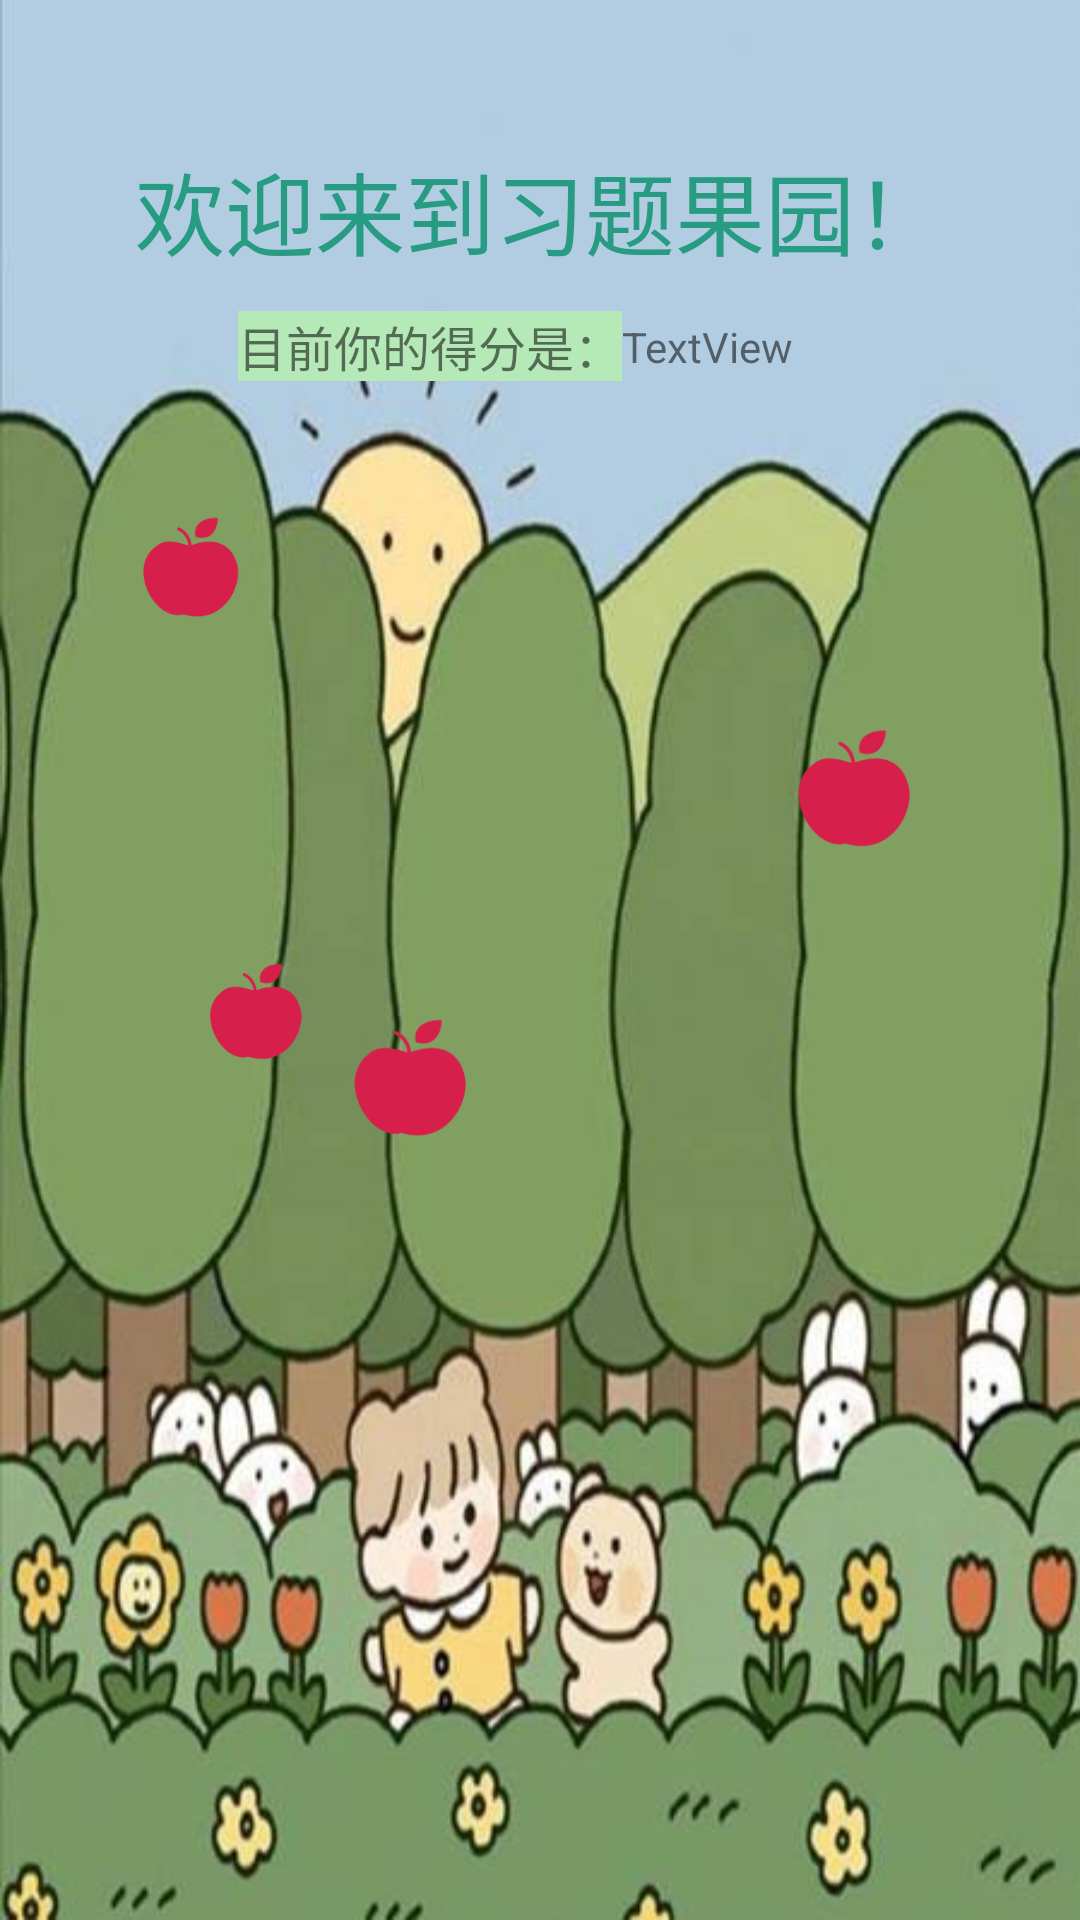

Icons on this 1080 x 1920 Android screen, each with the point to tap as (x=x, y=y):
apple: (x=213, y=567), (x=852, y=794), (x=256, y=1016), (x=392, y=1084)
